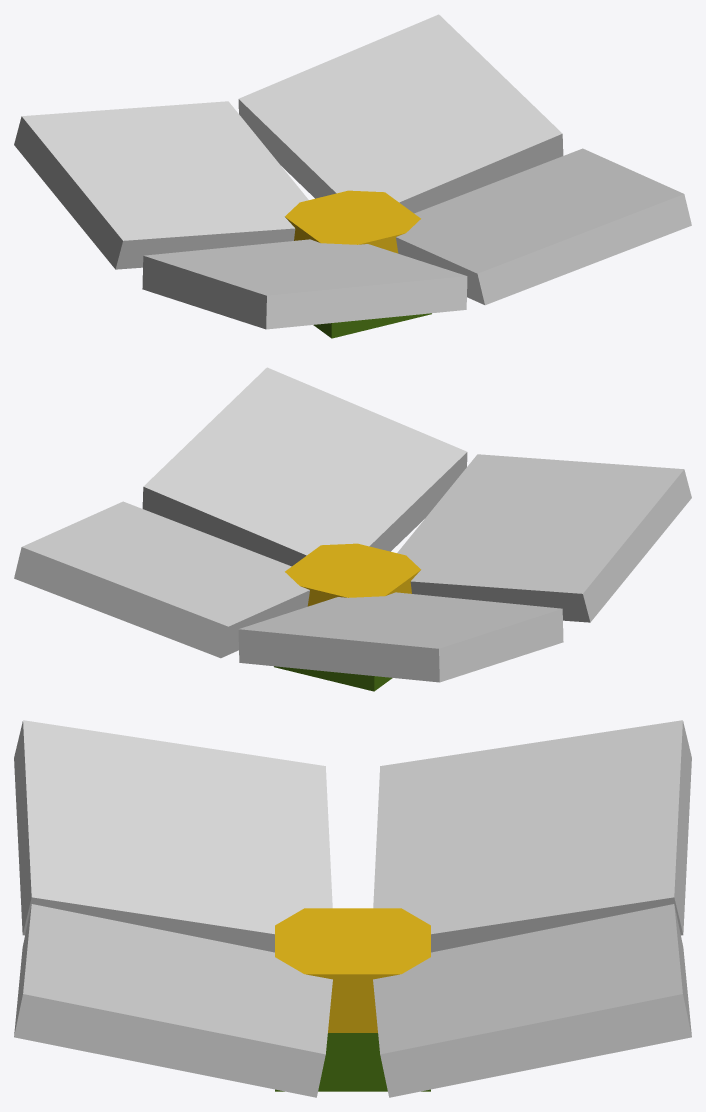
File: flower2.fbx
3 views of the same model, one above another, from view 1: azimuth 30°, elevation 25°; view 2: azimuth 150°, elevation 25°; view 3: azimuth 270°, elevation 25° (orthographic). The views are drawn at different scales.
Parts seen in each view (by area): view 1: flower LOD; view 2: flower LOD; view 3: flower LOD.
Boxes of the visible parts, <box> form: flower LOD: <box>14,14,691,338</box>; flower LOD: <box>14,367,691,691</box>; flower LOD: <box>14,720,691,1097</box>.
Bounding box in the file's own units: 16.75 × 5.36 × 16.33.
